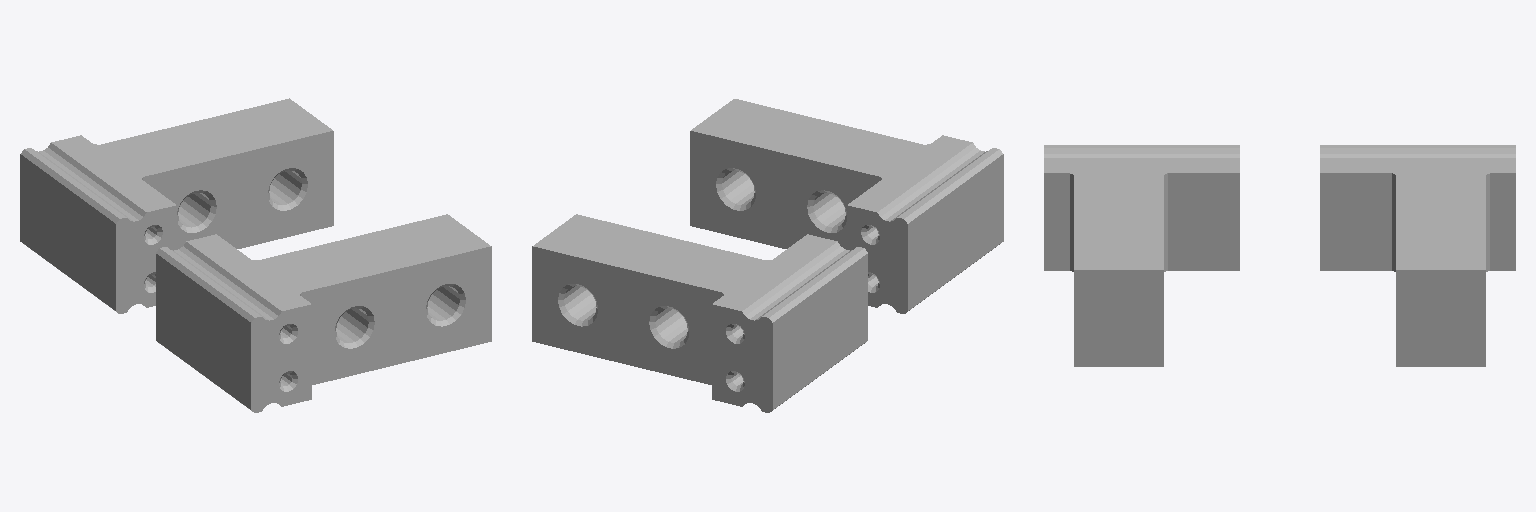
The robot description file, URDF, robot "sd700e_grip":
<robot
  name="sd700e_grip">

  <link name="base_footprint"/>
  <joint name="base_footprint_to_base" type="fixed">
    <axis rpy="0 0 0" xyz="0 0 0"/>
    <parent link="base_footprint"/>
    <child link="base_link"/>
    <origin rpy="0 0 0" xyz="0 0 0"/>
  </joint>

  <link
    name="base_link">
    <inertial>
      <origin
        xyz="-0.0194690222590367 0.0669003838868867 0.00026918811932978"
        rpy="0 0 0" />
      <mass
        value="0.00001" />
      <inertia
        ixx="10"
        ixy="0"
        ixz="0"
        iyy="10"
        iyz="0"
        izz="10" />
    </inertial>
    <visual>
      <origin
        xyz="0 0 0"
        rpy="0 0 0" />
      <geometry>
        <mesh
          filename="package://sd700e_grip/meshes/base_link.STL" />
      </geometry>
      <material
        name="">
        <color
          rgba="1.0 0.42353 0.03921 1.0" />
      </material>
    </visual>
    <collision>
      <origin
        xyz="0 0 0"
        rpy="0 0 0" />
      <geometry>
        <mesh
          filename="package://sd700e_grip/meshes/base_link.STL" />
      </geometry>
    </collision>
  </link>
  <link
    name="Link1">
    <inertial>
      <origin
        xyz="6.24979525564542E-05 -0.0250389972697368 -3.54756695346475E-05"
        rpy="0 0 0" />
      <mass
        value="0.00001" />
      <inertia
        ixx="10"
        ixy="0"
        ixz="0"
        iyy="10"
        iyz="0"
        izz="10" />
    </inertial>
    <visual>
      <origin
        xyz="0 0 0"
        rpy="0 0 0" />
      <geometry>
        <mesh
          filename="package://sd700e_grip/meshes/Link1.STL" />
      </geometry>
      <material
        name="">
        <color
          rgba="1.0 0.42353 0.03921 1.0" />
      </material>
    </visual>
    <collision>
      <origin
        xyz="0 0 0"
        rpy="0 0 0" />
      <geometry>
        <mesh
          filename="package://sd700e_grip/meshes/Link1.STL" />
      </geometry>
    </collision>
  </link>
  <joint
    name="Joint1"
    type="revolute">
    <origin
      xyz="0 0 0.263"
      rpy="1.5708 0 0" />
    <parent
      link="base_link" />
    <child
      link="Link1" />
    <axis
      xyz="0 1 0" />
    <limit
      lower="-2.967"
      upper="2.967"
      effort="100"
      velocity="1" />
  </joint>
  <link
    name="Link2">
    <inertial>
      <origin
        xyz="3.89335646288233E-06 0.14379865823793 -0.0506443388040001"
        rpy="0 0 0" />
      <mass
        value="0.00001" />
      <inertia
        ixx="10"
        ixy="0"
        ixz="0"
        iyy="10"
        iyz="0"
        izz="10" />
    </inertial>
    <visual>
      <origin
        xyz="0 0 0"
        rpy="0 0 0" />
      <geometry>
        <mesh
          filename="package://sd700e_grip/meshes/Link2.STL" />
      </geometry>
      <material
        name="">
        <color
          rgba="1.0 0.42353 0.03921 1.0" />
      </material>
    </visual>
    <collision>
      <origin
        xyz="0 0 0"
        rpy="0 0 0" />
      <geometry>
        <mesh
          filename="package://sd700e_grip/meshes/Link2.STL" />
      </geometry>
    </collision>
  </link>
  <joint
    name="Joint2"
    type="revolute">
    <origin
      xyz="0 0 0"
      rpy="0 0 0" />
    <parent
      link="Link1" />
    <child
      link="Link2" />
    <axis
      xyz="0 0 1" />
    <limit
      lower="-1.9199"
      upper="1.9199"
      effort="100"
      velocity="1" />
  </joint>
  <link
    name="Link3">
    <inertial>
      <origin
        xyz="0.013415824980232 -0.0105511175519905 0.00078367779449206"
        rpy="0 0 0" />
      <mass
        value="0.00001" />
      <inertia
        ixx="10"
        ixy="0"
        ixz="0"
        iyy="10"
        iyz="0"
        izz="10" />
    </inertial>
    <visual>
      <origin
        xyz="0 0 0"
        rpy="0 0 0" />
      <geometry>
        <mesh
          filename="package://sd700e_grip/meshes/Link3.STL" />
      </geometry>
      <material
        name="">
        <color
          rgba="1.0 0.42353 0.03921 1.0" />
      </material>
    </visual>
    <collision>
      <origin
        xyz="0 0 0"
        rpy="0 0 0" />
      <geometry>
        <mesh
          filename="package://sd700e_grip/meshes/Link3.STL" />
      </geometry>
    </collision>
  </link>
  <joint
    name="Joint3"
    type="revolute">
    <origin
      xyz="0 0.35 0"
      rpy="0 0 0" />
    <parent
      link="Link2" />
    <child
      link="Link3" />
    <axis
      xyz="0 0 1" />
    <limit
      lower="-0.6981"
      upper="3.8397"
      effort="100"
      velocity="1" />
  </joint>
  <link
    name="Link4">
    <inertial>
      <origin
        xyz="0.124377414524302 0.000531054308674062 0.00764519285380822"
        rpy="0 0 0" />
      <mass
        value="0.00001" />
      <inertia
        ixx="10"
        ixy="0"
        ixz="0"
        iyy="10"
        iyz="0"
        izz="10" />
    </inertial>
    <visual>
      <origin
        xyz="0 0 0"
        rpy="0 0 0" />
      <geometry>
        <mesh
          filename="package://sd700e_grip/meshes/Link4.STL" />
      </geometry>
      <material
        name="">
        <color
          rgba="1.0 0.42353 0.03921 1.0" />
      </material>
    </visual>
    <collision>
      <origin
        xyz="0 0 0"
        rpy="0 0 0" />
      <geometry>
        <mesh
          filename="package://sd700e_grip/meshes/Link4.STL" />
      </geometry>
    </collision>
  </link>
  <joint
    name="Joint4"
    type="revolute">
    <origin
      xyz="0.0805 0 0"
      rpy="0 0 0" />
    <parent
      link="Link3" />
    <child
      link="Link4" />
    <axis
      xyz="1 0 0" />
    <limit
      lower="-3.1416"
      upper="3.1416"
      effort="100"
      velocity="1" />
  </joint>
  <link
    name="Link5">
    <inertial>
      <origin
        xyz="0.0171365648416463 5.00386109847373E-06 0.00579159804548859"
        rpy="0 0 0" />
      <mass
        value="0.00001" />
      <inertia
        ixx="10"
        ixy="0"
        ixz="0"
        iyy="10"
        iyz="0"
        izz="10" />
    </inertial>
    <visual>
      <origin
        xyz="0 0 0"
        rpy="0 0 0" />
      <geometry>
        <mesh
          filename="package://sd700e_grip/meshes/Link5.STL" />
      </geometry>
      <material
        name="">
        <color
          rgba="1.0 0.42353 0.03921 1.0" />
      </material>
    </visual>
    <collision>
      <origin
        xyz="0 0 0"
        rpy="0 0 0" />
      <geometry>
        <mesh
          filename="package://sd700e_grip/meshes/Link5.STL" />
      </geometry>
    </collision>
  </link>
  <joint
    name="Joint5"
    type="revolute">
    <origin
      xyz="0.2695 0 0"
      rpy="0 0 0" />
    <parent
      link="Link4" />
    <child
      link="Link5" />
    <axis
      xyz="0 0 1" />
    <limit
      lower="-2.1817"
      upper="2.1817"
      effort="100"
      velocity="1" />
  </joint>
  <link
    name="Link6">
    <inertial>
      <origin
        xyz="0.0688522601103922 -0.00341730826575071 -8.58713696627559E-05"
        rpy="0 0 0" />
      <mass
        value="0.00001" />
      <inertia
        ixx="10"
        ixy="0"
        ixz="0"
        iyy="10"
        iyz="0"
        izz="10" />
    </inertial>
    <visual>
      <origin
        xyz="0 0 0"
        rpy="0 0 0" />
      <geometry>
        <mesh
          filename="package://sd700e_grip/meshes/Link6.STL" />
      </geometry>
      <material
        name="">
        <color
          rgba="1 1 1 1" />
      </material>
    </visual>
    <collision>
      <origin
        xyz="0 0 0"
        rpy="0 0 0" />
      <geometry>
        <mesh
          filename="package://sd700e_grip/meshes/Link6.STL" />
      </geometry>
    </collision>
  </link>
  <joint
    name="Joint6"
    type="revolute">
    <origin
      xyz="0.0745 0 0"
      rpy="0 0 0" />
    <parent
      link="Link5" />
    <child
      link="Link6" />
    <axis
      xyz="1 0 0" />
    <limit
      lower="-3.1416"
      upper="3.1416"
      effort="100"
      velocity="1" />
  </joint>
  <link
    name="left_grip">
    <inertial>
      <origin
        xyz="0.0141086137554788 0 0.0169130859525959"
        rpy="0 0 0" />
      <mass
        value="0.00001" />
      <inertia
        ixx="10"
        ixy="0"
        ixz="0"
        iyy="10"
        iyz="0"
        izz="10" />
    </inertial>
    <visual>
      <origin
        xyz="0 0 0"
        rpy="0 0 0" />
      <geometry>
        <mesh
          filename="package://sd700e_grip/meshes/left_grip.STL" />
      </geometry>
      <material
        name="">
        <color
          rgba="0.749019607843137 0.749019607843137 0.749019607843137 1" />
      </material>
    </visual>
    <collision>
      <origin
        xyz="0 0 0"
        rpy="0 0 0" />
      <geometry>
        <mesh
          filename="package://sd700e_grip/meshes/left_grip.STL" />
      </geometry>
    </collision>
  </link>
  <joint
    name="leftjoint"
    type="prismatic">
    <origin
      xyz="0.1228 0 0"
      rpy="0 0 0" />
    <parent
      link="Link6" />
    <child
      link="left_grip" />
    <axis
      xyz="0 0 1" />
    <limit
      lower="-0.0035"
      upper="0.0035"
      effort="100"
      velocity="1" />
  </joint>
  <link
    name="right_grip">
    <inertial>
      <origin
        xyz="0.0141086137554787 7.7715611723761E-16 -0.016913085952596"
        rpy="0 0 0" />
      <mass
        value="0.00001" />
      <inertia
        ixx="10"
        ixy="0"
        ixz="0"
        iyy="10"
        iyz="0"
        izz="10" />
    </inertial>
    <visual>
      <origin
        xyz="0 0 0"
        rpy="0 0 0" />
      <geometry>
        <mesh
          filename="package://sd700e_grip/meshes/right_grip.STL" />
      </geometry>
      <material
        name="">
        <color
          rgba="0.749019607843137 0.749019607843137 0.749019607843137 1" />
      </material>
    </visual>
    <collision>
      <origin
        xyz="0 0 0"
        rpy="0 0 0" />
      <geometry>
        <mesh
          filename="package://sd700e_grip/meshes/right_grip.STL" />
      </geometry>
    </collision>
  </link>
  <joint
    name="rightjoint"
    type="prismatic">
    <origin
      xyz="0.1228 0 0"
      rpy="0 0 0" />
    <parent
      link="Link6" />
    <child
      link="right_grip" />
    <axis
      xyz="0 0 1" />
    <limit
      lower="-0.0035"
      upper="0.0035"
      effort="100"
      velocity="1" />
    <mimic joint="leftjoint" multiplier="-1" />
  </joint>

</robot>

--- Facts derived from the render (not from the file) ---
3 views of the same robot in one strip: view 1: azimuth 30°, elevation 25°; view 2: azimuth 150°, elevation 25°; view 3: azimuth 270°, elevation 25° (orthographic).
Model sd700e_grip with 10 links and 9 joints (6 revolute, 2 prismatic, 1 fixed), rooted at base_footprint, posed every joint at zero.
Links seen in each view (by area): view 1: left_grip, right_grip; view 2: right_grip, left_grip; view 3: left_grip, right_grip.
Boxes of the visible links, x1,y1,x2,y2 form: left_grip: (156, 214, 491, 412); right_grip: (20, 98, 333, 313); right_grip: (532, 214, 867, 412); left_grip: (690, 99, 1003, 313); left_grip: (1044, 145, 1239, 366); right_grip: (1320, 145, 1515, 366).
Bounding box of the posed robot: 0.0335 × 0.0526 × 0.012 m (x, y, z).
Meshes: 9 distinct files referenced, 2 mesh visuals loaded (2 binary STL); not drawn: 7 (reference not matched to a file when rendering).